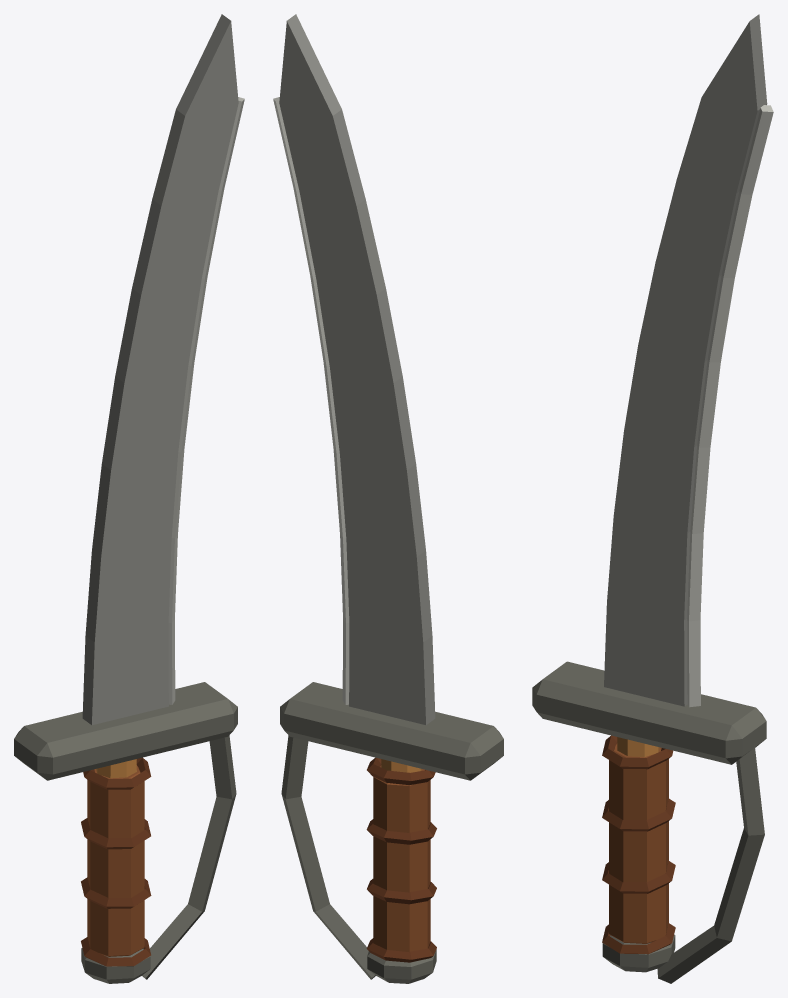
Rendered from StoneCutlass.fbx.
The picture shows the model from 3 angles, left to right: view 1: azimuth 30°, elevation 25°; view 2: azimuth 150°, elevation 25°; view 3: azimuth 330°, elevation 25°; orthographic projection. The views are drawn at different scales.
Parts seen in each view (by area): view 1: StoneCutlass; view 2: StoneCutlass; view 3: StoneCutlass.
Part boxes in pixels (x1,y1,x2,y2): StoneCutlass: (14,14,244,983); StoneCutlass: (273,14,503,983); StoneCutlass: (532,14,773,983).
Bounding box in the file's own units: 1.09 × 4.49 × 0.3129.
Materials: 1 (1 with a texture image).
